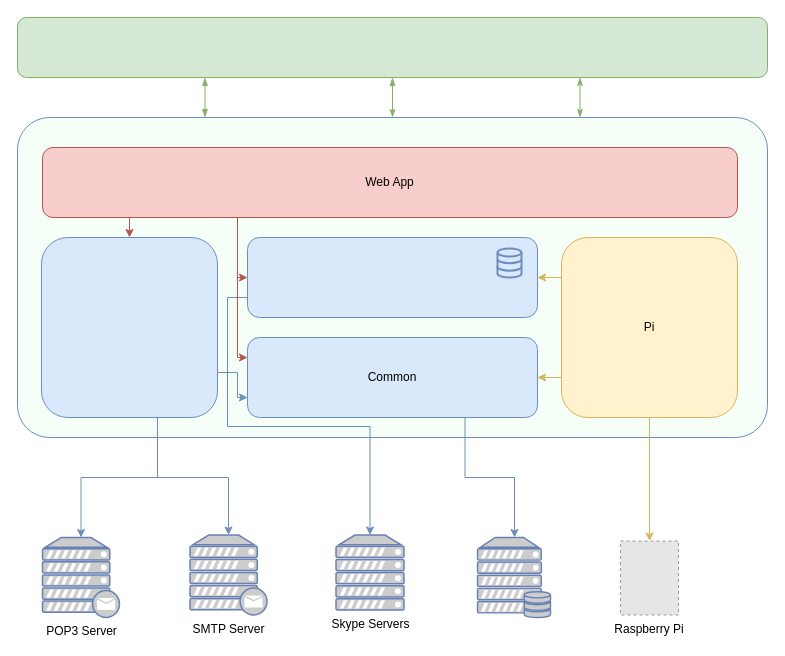
Image size: 785x656. Some labels were removed from this diagram. Grey dashed boxes stand in for pictures. Here are the shapes that lost their labels. From the top down, the box of each, then its label:
(16, 16, 768, 78): Client
(246, 236, 538, 318): Messaging
(40, 236, 218, 418): Notifications
(476, 536, 551, 618): MariaDB
